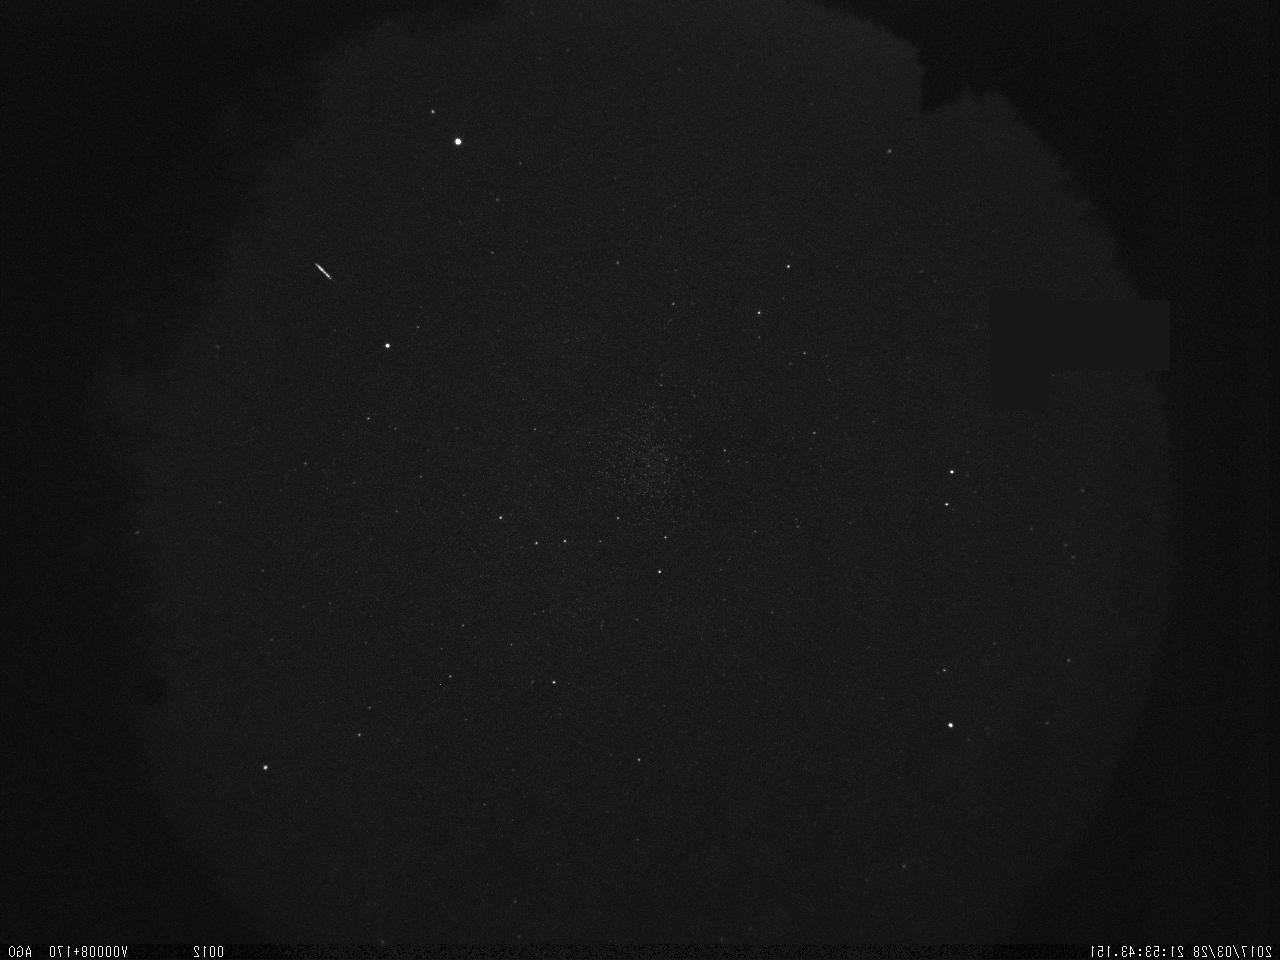meteor: (308, 257, 337, 284)
